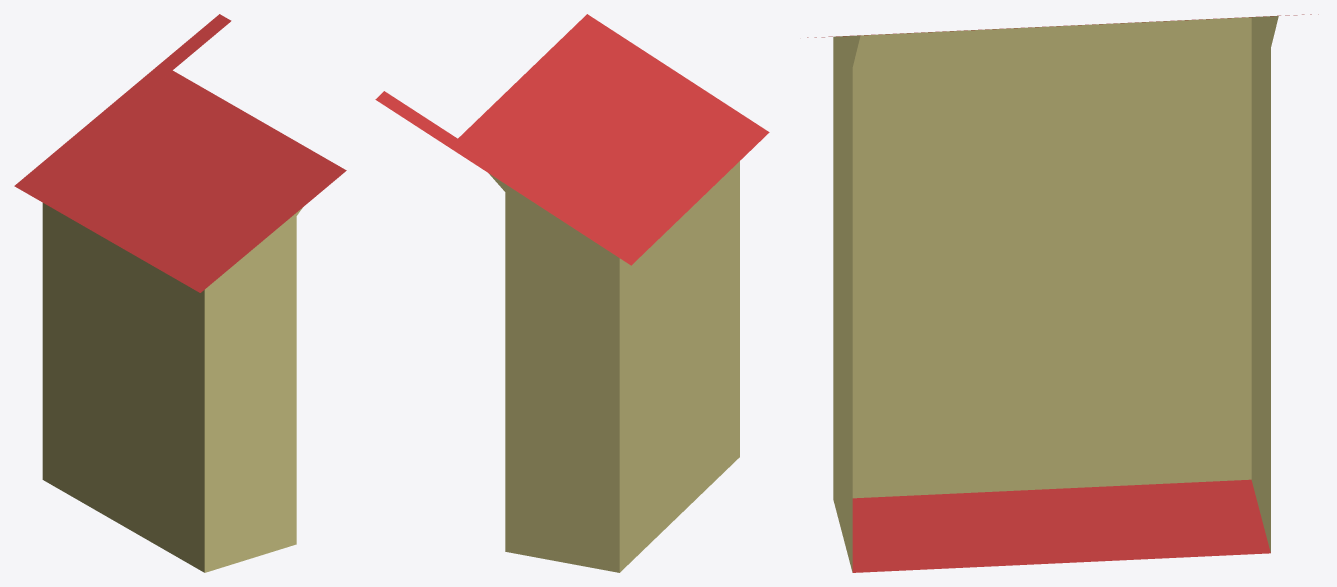
3 views of the same model, side by side, from view 1: azimuth 30°, elevation 25°; view 2: azimuth 150°, elevation 25°; view 3: azimuth 270°, elevation 25° (orthographic). The views are drawn at different scales.
Size of the model in its own units: 6.23 by 8.3 by 10.76.
